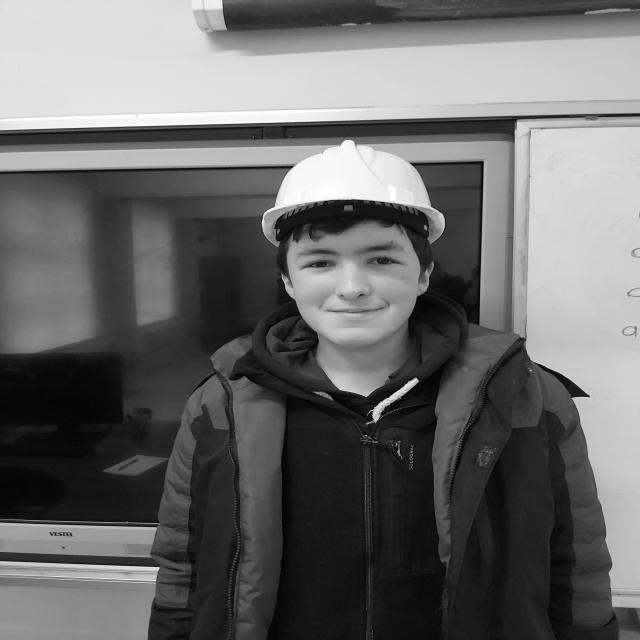safety_helmet: (261, 143, 445, 269)
